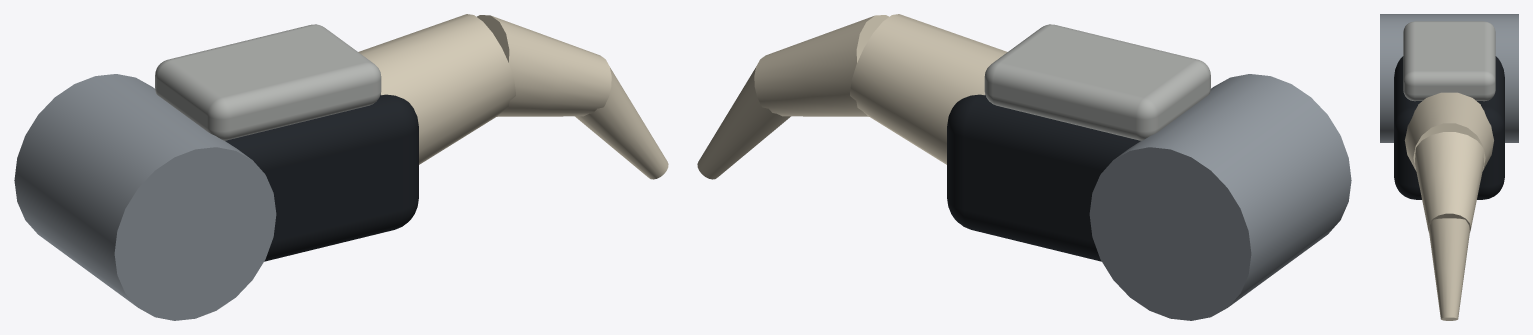
File: right_toe_3_distal_link.glb
3 renders of one model, left to right at view 1: azimuth 30°, elevation 25°; view 2: azimuth 150°, elevation 25°; view 3: azimuth 270°, elevation 25°, orthographic. The views are drawn at different scales.
Visible parts, largest first — view 1: right_toe_3_distal_link; view 2: right_toe_3_distal_link; view 3: right_toe_3_distal_link.
Boxes of the visible parts, box(x1,y1,x2,y2) form: right_toe_3_distal_link: box(14, 14, 668, 320); right_toe_3_distal_link: box(697, 14, 1351, 320); right_toe_3_distal_link: box(1380, 14, 1518, 320).
Size of the model in its own units: 0.1041 by 0.0347 by 0.03.
